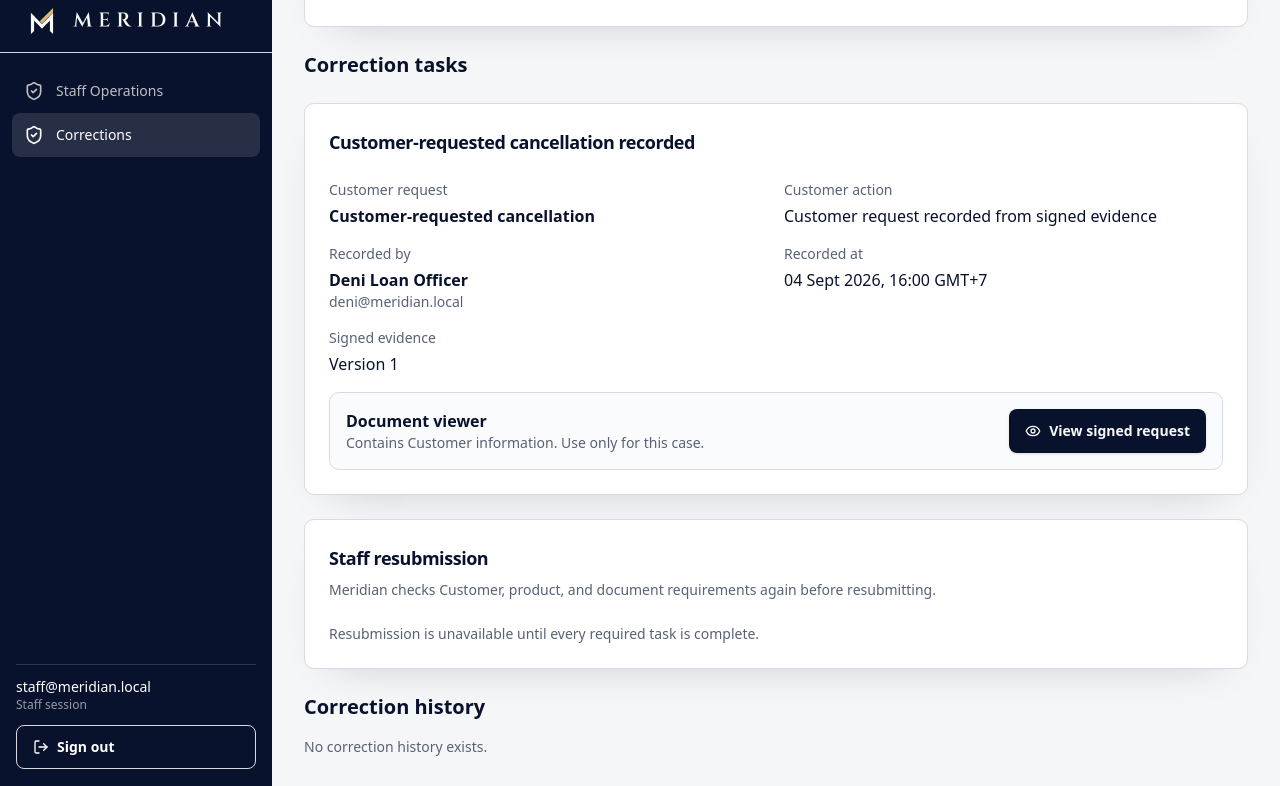
Test: Staff correction operation recovery › shows completed Customer-requested cancellation and the Staff recorder without command controls
(page scrolled)
expect the heading "Customer-requested cancellation recorded" is shown: met, box [329,130,695,154]
expect the text "Customer request" is shown: met, box [329,180,448,199]
Click the button "View signed request".
click(1108, 431)  # box [1009,409,1206,453]
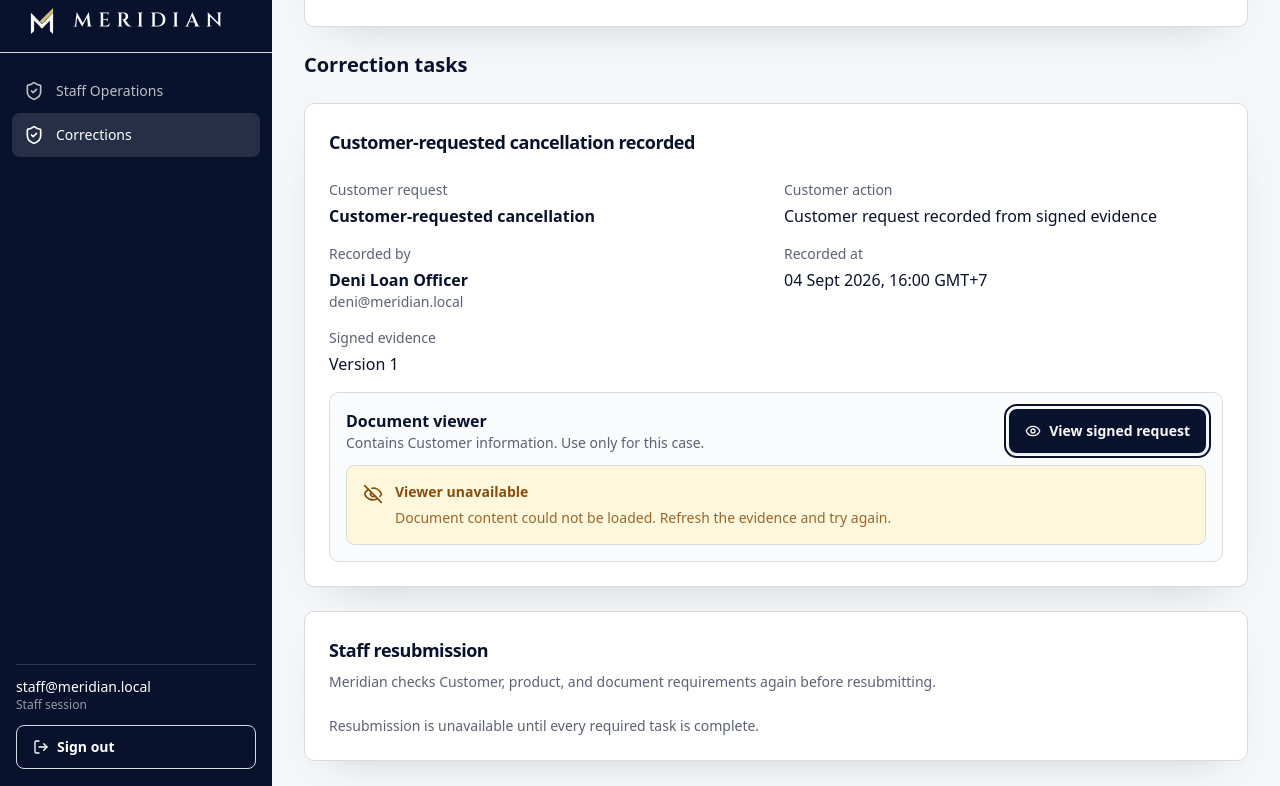
expect the heading "Viewer unavailable" is shown: met, box [395,482,528,501]
